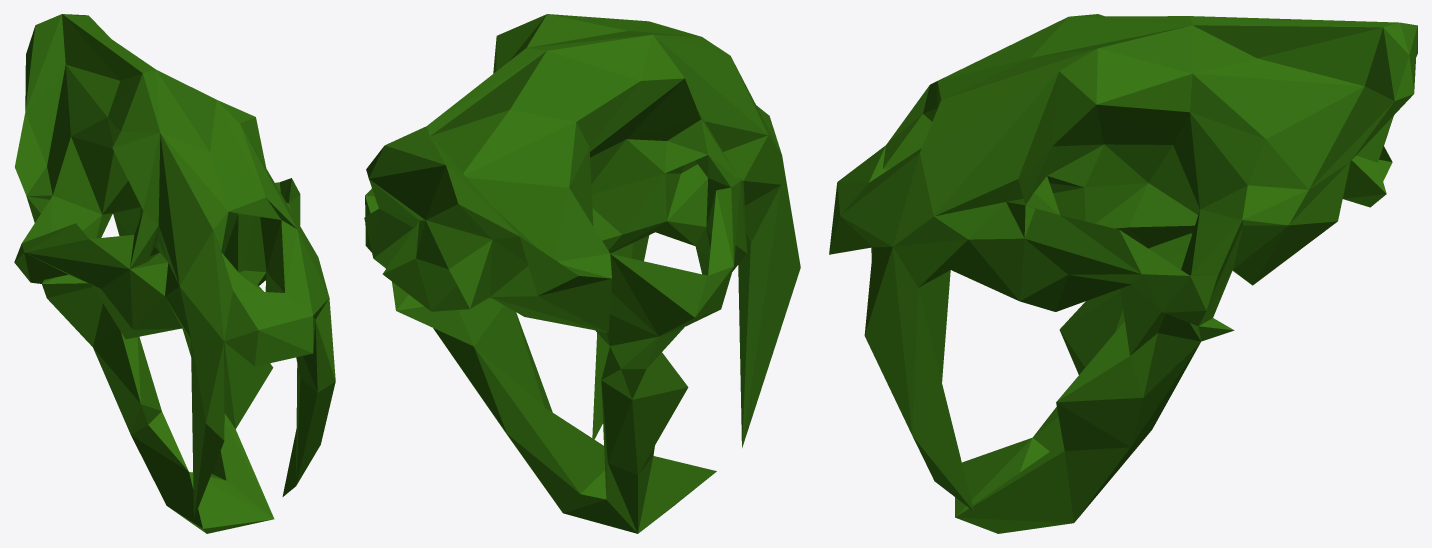
The model's file is SkeletonSmilodonLow.fbx.
The picture shows the model from 3 angles, left to right: view 1: azimuth 30°, elevation 25°; view 2: azimuth 150°, elevation 25°; view 3: azimuth 270°, elevation 25°; orthographic projection. The views are drawn at different scales.
Parts seen in each view (by area): view 1: SkeletonSmilodonLow; view 2: SkeletonSmilodonLow; view 3: SkeletonSmilodonLow.
Boxes of the visible parts, x1,y1,x2,y2 form: SkeletonSmilodonLow: [14, 14, 335, 533]; SkeletonSmilodonLow: [364, 14, 800, 533]; SkeletonSmilodonLow: [829, 14, 1417, 533].
Bounding box in the file's own units: 144 × 205 × 220.
